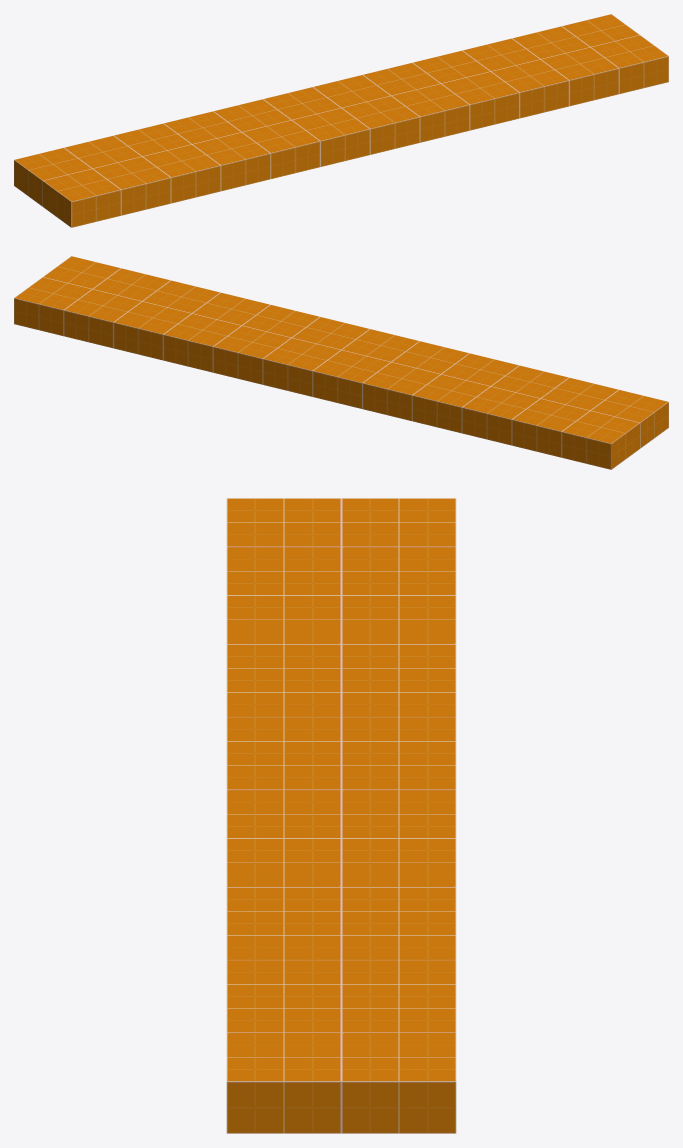
Rendered from Plate2_12x2.obj.
3 views of the same model, one above another, from view 1: azimuth 30°, elevation 25°; view 2: azimuth 150°, elevation 25°; view 3: azimuth 270°, elevation 25° (orthographic). The views are drawn at different scales.
Visible parts, largest first — view 1: Plate2_12x2_Cube.309; view 2: Plate2_12x2_Cube.309; view 3: Plate2_12x2_Cube.309.
Part boxes in pixels (<box>): Plate2_12x2_Cube.309: <box>14,14,668,227</box>; Plate2_12x2_Cube.309: <box>14,256,668,469</box>; Plate2_12x2_Cube.309: <box>226,498,456,1133</box>.
Bounding box in the file's own units: 12 × 0.5 × 2.
1 material, 1 textured.
